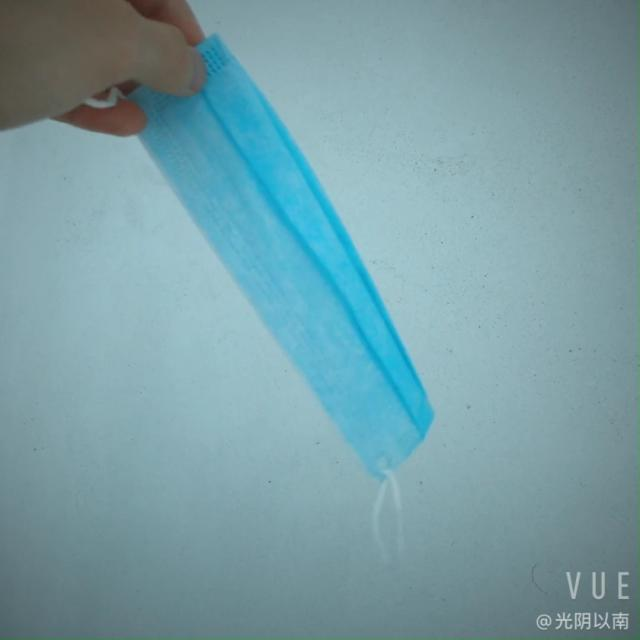face mask: (119, 0, 433, 512)
